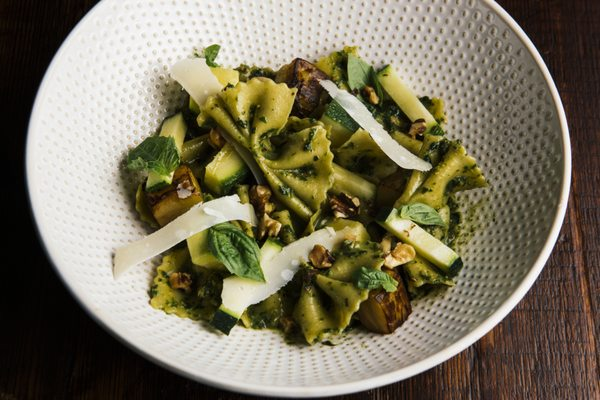curry: (204, 219, 266, 283)
sushi: (6, 2, 569, 390)
